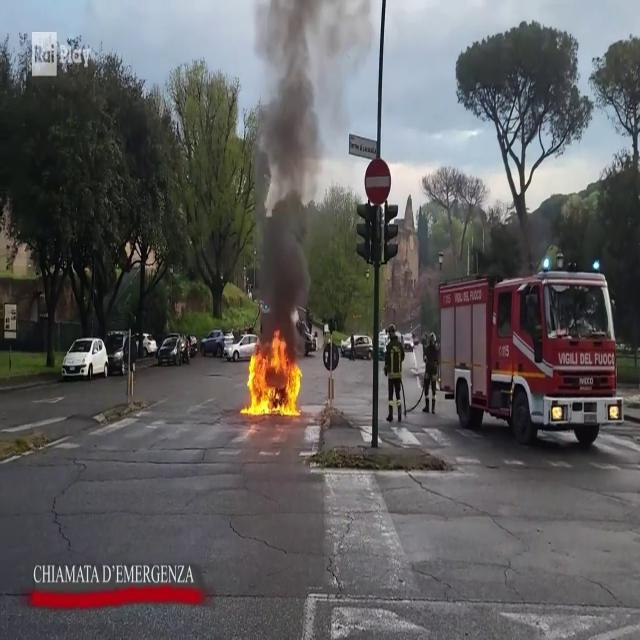Fire: (244, 327, 304, 421)
Smoke: (250, 0, 327, 328)
